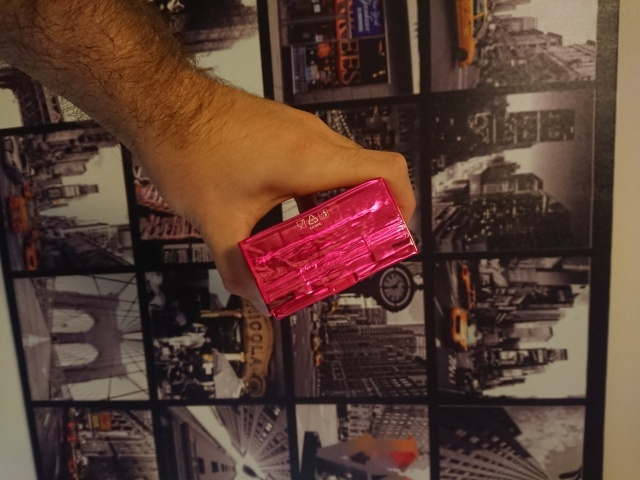Barcaffe Classic Original 225g: (235, 173, 422, 323)
